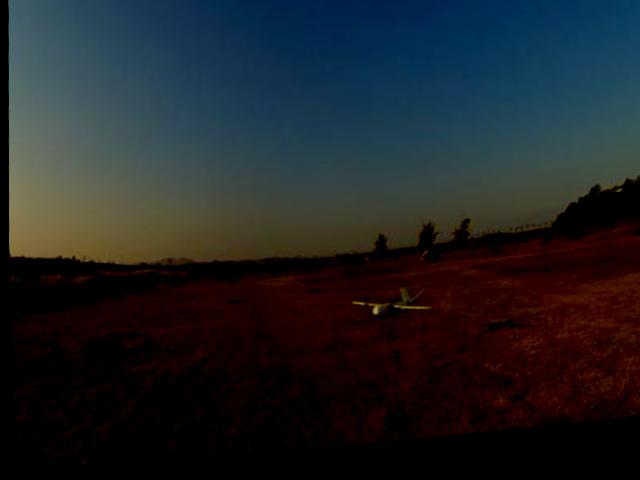uav: (343, 284, 439, 339)
